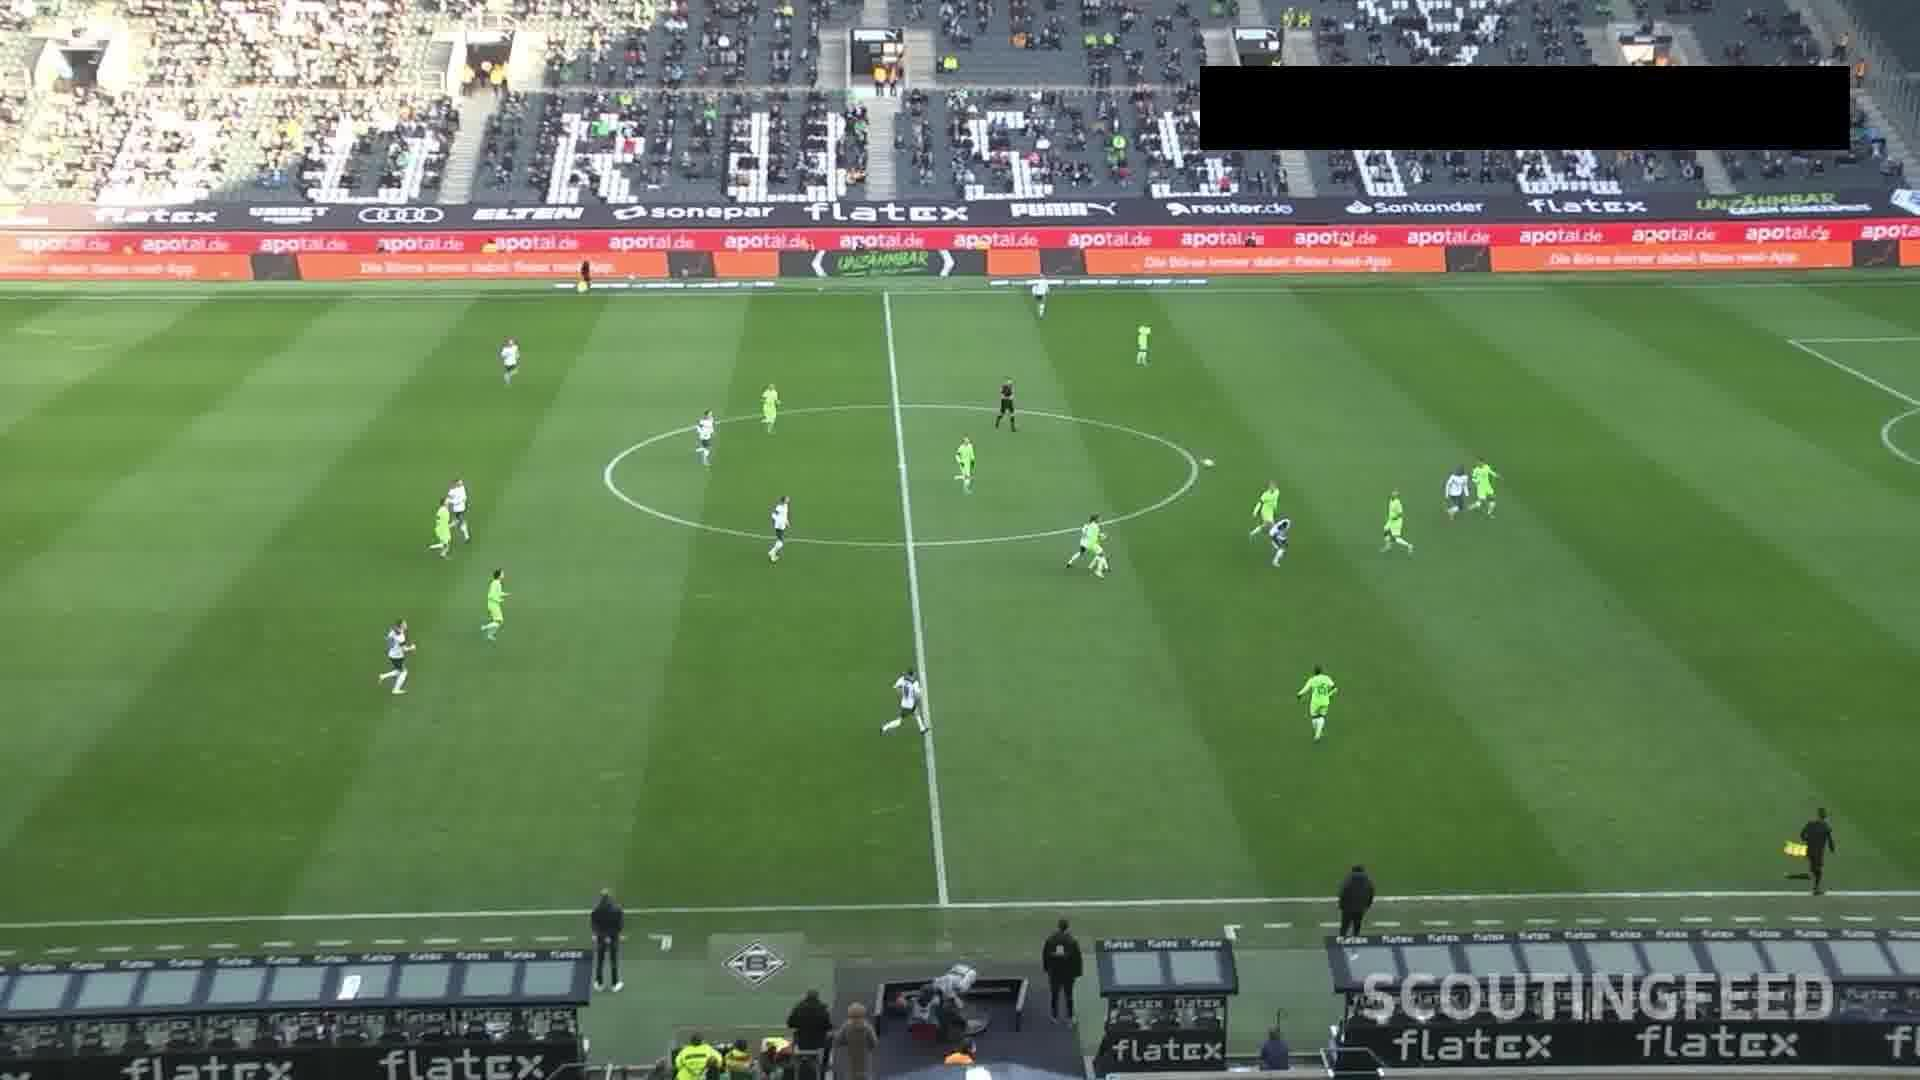football: (1201, 456, 1216, 471)
